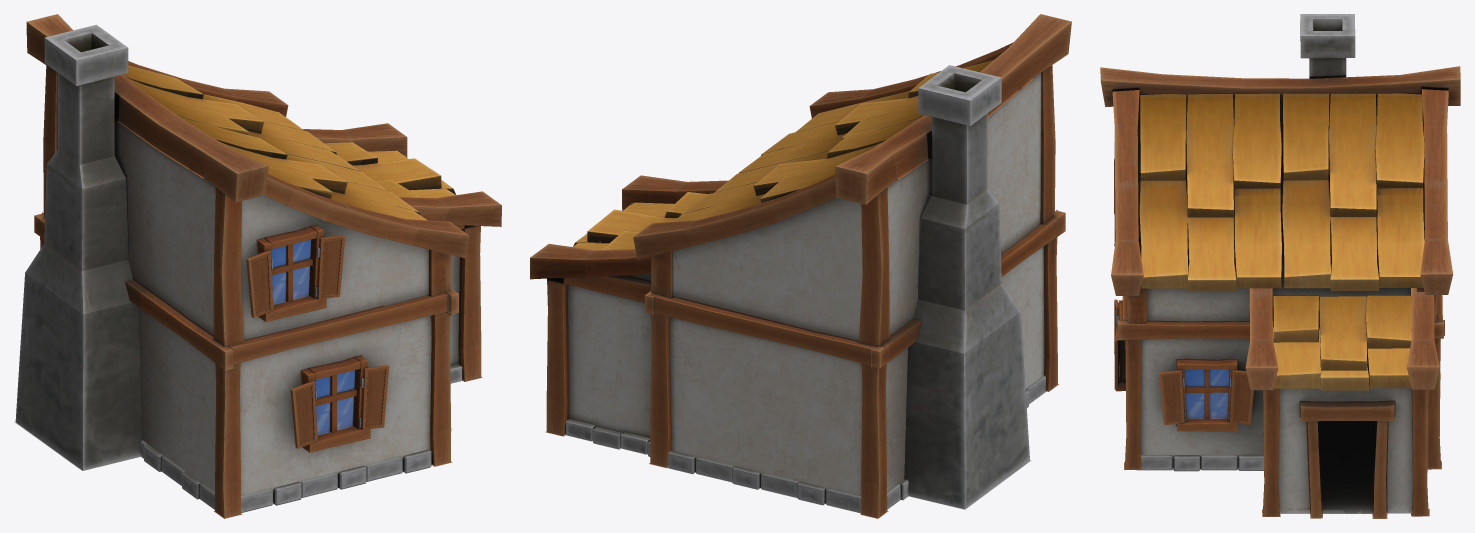
The model's file is House5.fbx.
3 views of the same model, side by side, from view 1: azimuth 30°, elevation 25°; view 2: azimuth 150°, elevation 25°; view 3: azimuth 270°, elevation 25° (orthographic). The views are drawn at different scales.
Visible parts, largest first — view 1: House5; view 2: House5; view 3: House5.
Boxes of the visible parts, left/top/right/bottom form: House5: left=14, top=14, right=501, bottom=518; House5: left=530, top=14, right=1071, bottom=518; House5: left=1100, top=14, right=1460, bottom=518.
Size of the model in its own units: 949 by 880 by 837.
